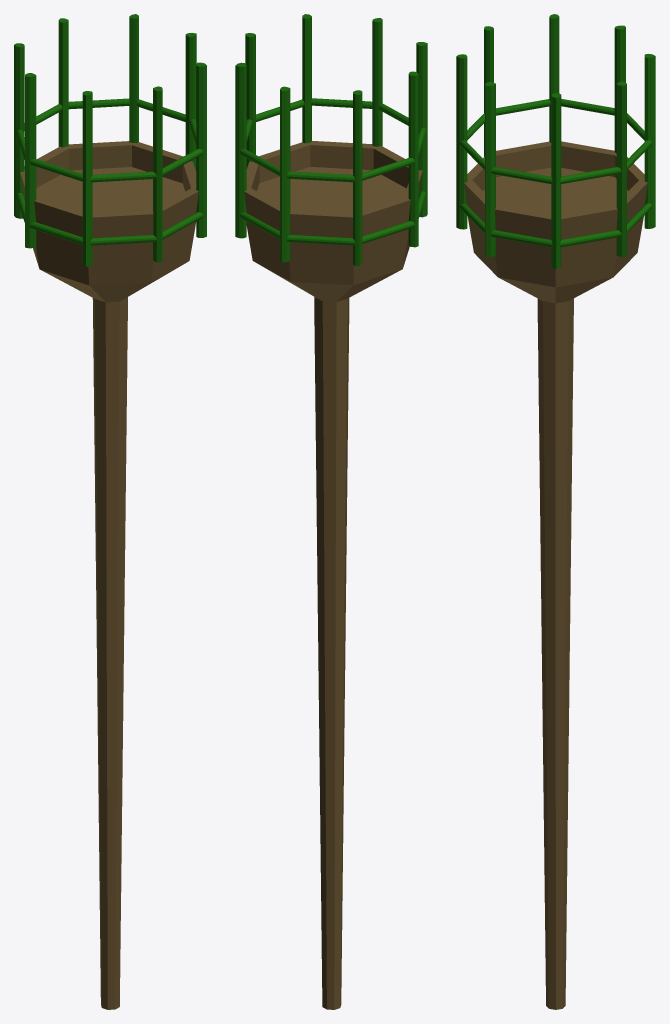
The model's file is Location.fbx.
3 renders of one model, left to right at view 1: azimuth 30°, elevation 25°; view 2: azimuth 150°, elevation 25°; view 3: azimuth 270°, elevation 25°, orthographic.
Visible parts, largest first — view 1: Cylinder.045, Cylinder.044, Circle, Circle.001; view 2: Cylinder.045, Cylinder.044, Circle, Circle.001; view 3: Cylinder.045, Cylinder.044, Circle, Circle.001.
Boxes of the visible parts, x1,y1,x2,y2 form: Cylinder.045: [20, 141, 198, 1009]; Cylinder.044: [14, 14, 206, 266]; Circle: [16, 98, 203, 182]; Circle.001: [16, 193, 203, 245]; Cylinder.045: [244, 141, 422, 1009]; Cylinder.044: [235, 14, 427, 266]; Circle: [239, 98, 426, 182]; Circle.001: [239, 191, 426, 245]; Cylinder.045: [464, 141, 647, 1009]; Cylinder.044: [456, 14, 655, 268]; Circle: [459, 99, 652, 184]; Circle.001: [459, 203, 652, 247].
Bounding box in the file's own units: 99.9 × 527 × 100.
